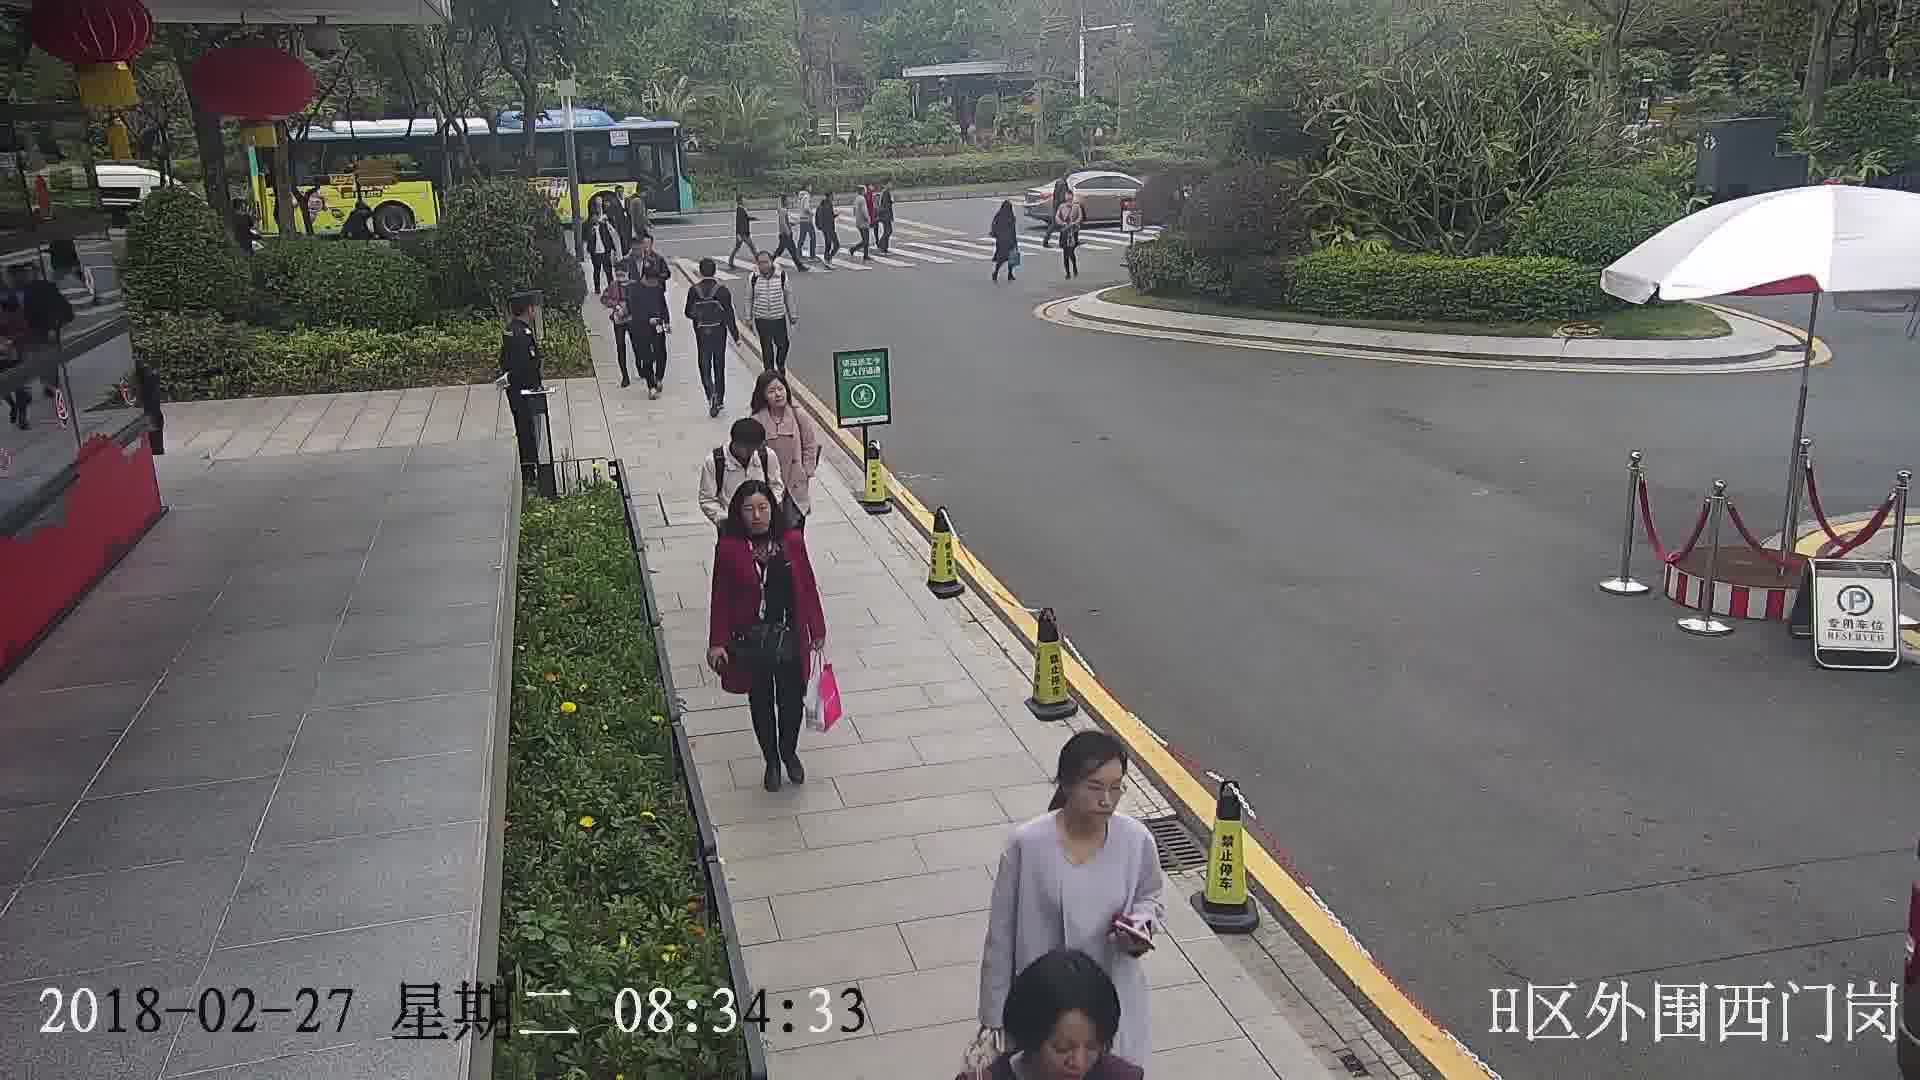face: (1036, 1007, 1108, 1079), (1062, 758, 1131, 827), (734, 490, 778, 540)
person: (969, 946, 1147, 1079), (999, 730, 1155, 880), (714, 479, 799, 569), (704, 413, 782, 483), (749, 370, 807, 436), (502, 292, 539, 344), (686, 255, 728, 299), (748, 249, 787, 281), (633, 260, 667, 294), (634, 229, 666, 263), (608, 257, 634, 293), (584, 199, 610, 231), (993, 197, 1019, 222), (626, 182, 650, 209), (795, 179, 814, 204), (1052, 165, 1070, 191), (776, 196, 794, 220), (732, 192, 752, 212), (816, 190, 836, 210), (878, 181, 894, 205), (1058, 188, 1076, 208), (854, 182, 872, 202)
